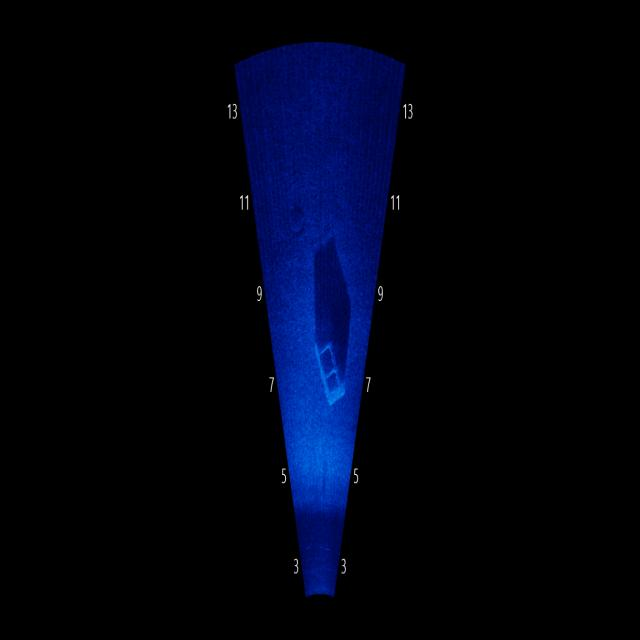square: (314, 329, 348, 410)
